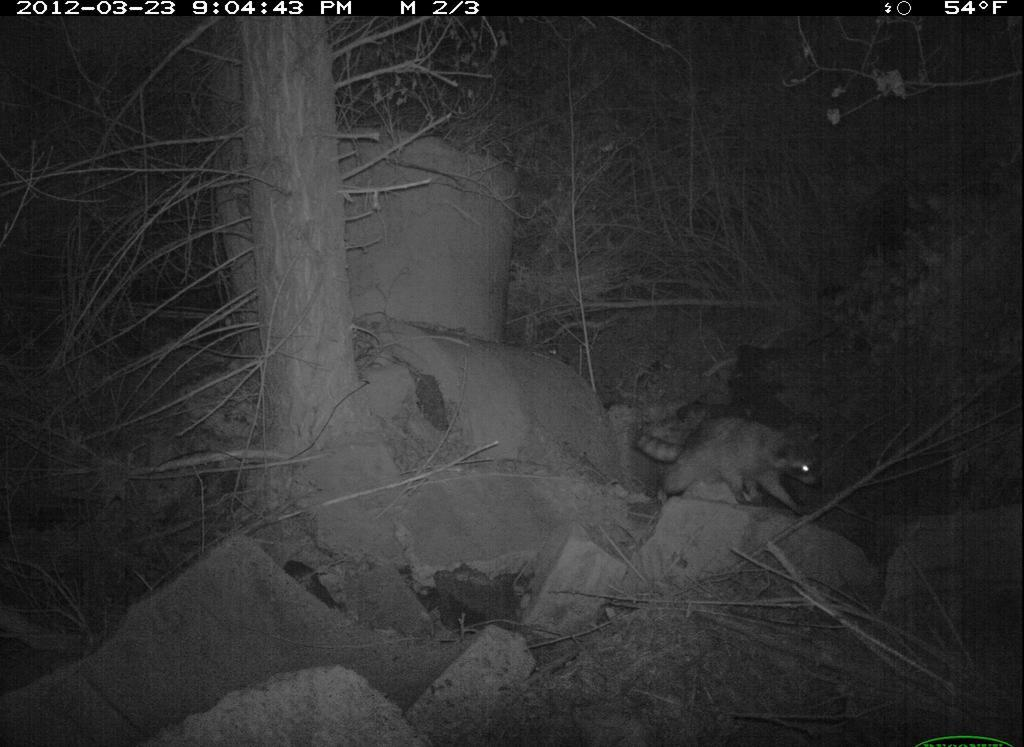raccoon: (617, 411, 830, 521)
